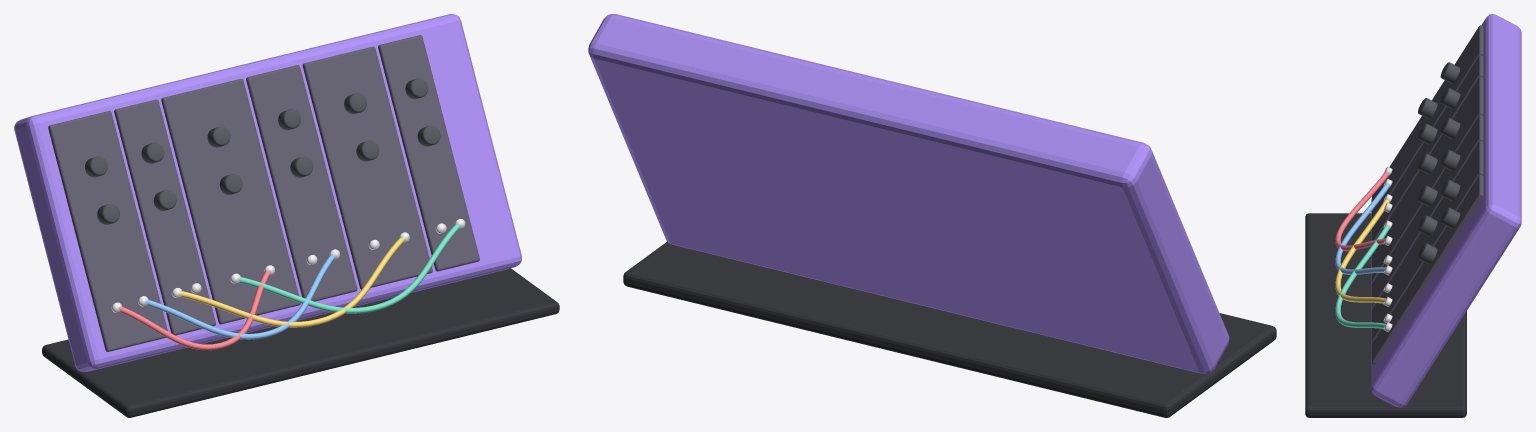
Rendered from Tangle.glb.
3 views of the same model, side by side, from view 1: azimuth 30°, elevation 25°; view 2: azimuth 150°, elevation 25°; view 3: azimuth 270°, elevation 25° (orthographic). The views are drawn at different scales.
Parts seen in each view (by area): view 1: Tangle_Case, Tangle_Foot, Tangle_Mod2, Tangle_Mod4, Tangle_Mod0, Tangle_Mod3, Tangle_Mod5, Tangle_Mod1, Tangle_Cable1, Tangle_Cable2, Tangle_Cable3, Tangle_Cable0; view 2: Tangle_Case, Tangle_Foot; view 3: Tangle_Case, Tangle_Foot, Tangle_Mod2, Tangle_Mod4, Tangle_Mod5, Tangle_Mod0, Tangle_Mod3, Tangle_Mod1, Tangle_Cable2, Tangle_Cable1, Tangle_Cable3, Tangle_Cable0 (+12 smaller).
Part boxes in pixels (box(x1,y1,x2,y2)): Tangle_Case: box(14, 14, 521, 371); Tangle_Foot: box(42, 268, 559, 417); Tangle_Mod2: box(161, 79, 300, 324); Tangle_Mod4: box(302, 46, 432, 289); Tangle_Mod0: box(48, 111, 167, 351); Tangle_Mod3: box(246, 65, 357, 301); Tangle_Mod5: box(378, 35, 479, 271); Tangle_Mod1: box(114, 99, 215, 335); Tangle_Cable1: box(179, 237, 404, 327); Tangle_Cable2: box(238, 224, 460, 313); Tangle_Cable3: box(145, 254, 335, 339); Tangle_Cable0: box(118, 270, 270, 350); Tangle_Case: box(588, 14, 1229, 373); Tangle_Foot: box(623, 242, 1276, 417); Tangle_Case: box(1371, 14, 1521, 407); Tangle_Foot: box(1305, 213, 1466, 417); Tangle_Mod2: box(1372, 76, 1483, 281); Tangle_Mod4: box(1372, 140, 1483, 341); Tangle_Mod5: box(1372, 175, 1483, 364); Tangle_Mod0: box(1372, 25, 1483, 218); Tangle_Mod3: box(1372, 115, 1483, 307); Tangle_Mod1: box(1372, 55, 1483, 240); Tangle_Cable2: box(1335, 225, 1389, 328); Tangle_Cable1: box(1335, 199, 1389, 303); Tangle_Cable3: box(1335, 183, 1389, 274); Tangle_Cable0: box(1335, 171, 1388, 251).
Size of the model in its own units: 0.46 by 0.231 by 0.2144.
